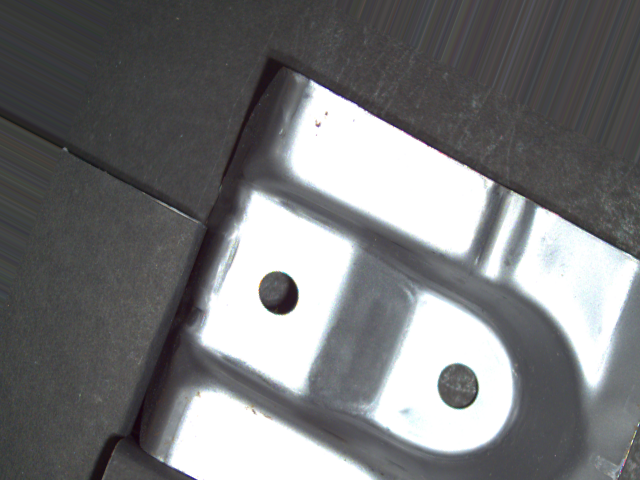defect: (435, 358, 482, 412)
